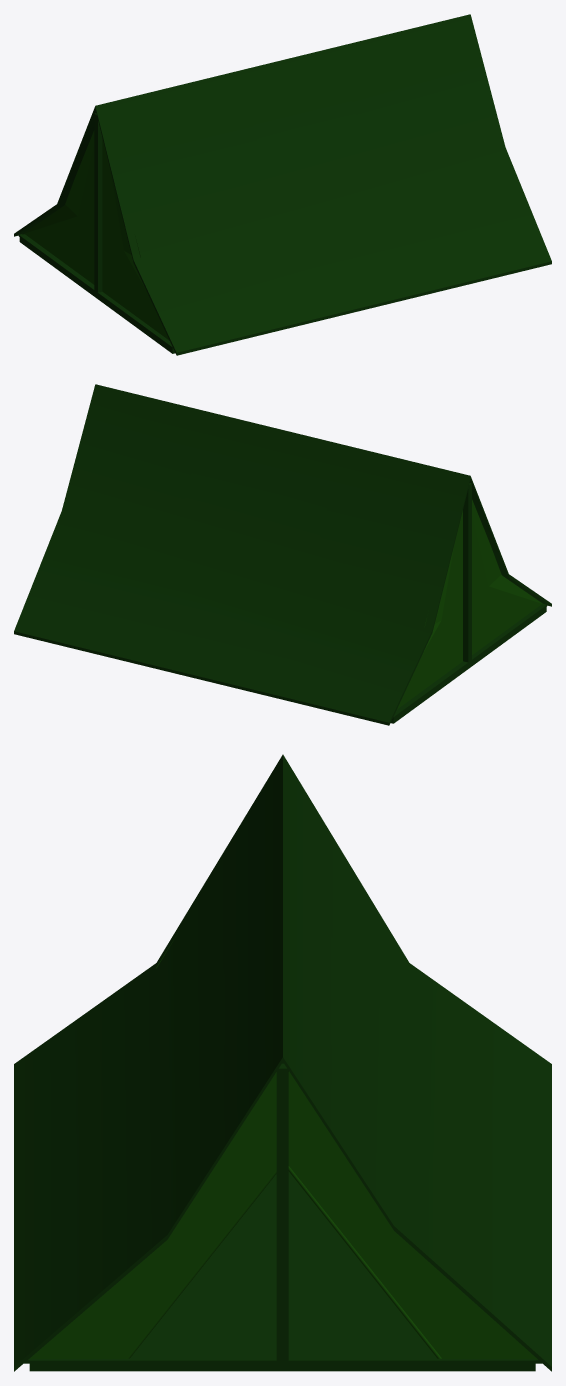
Rendered from tent-groen-open.fbx.
The picture shows the model from 3 angles, top to bottom: view 1: azimuth 30°, elevation 25°; view 2: azimuth 150°, elevation 25°; view 3: azimuth 270°, elevation 25°; orthographic projection. The views are drawn at different scales.
Visible parts, largest first — view 1: pCube1, pasted__polySurface1, polySurface1, pCube2, pCube3, pasted__pCube1; view 2: pasted__pCube1, polySurface1, pasted__polySurface1, pCube2, pCube3, pCube1; view 3: pCube1, pasted__pCube1, pCube4, pasted__pasted__polySurface1, pasted__polySurface1, pasted__pCube2, pasted__pCube3, pasted__pPipe1, pPipe1.
Part boxes in pixels (x1,y1,x2,y2): pCube1: (95,14,551,355); pasted__polySurface1: (22,130,94,284); polySurface1: (102,138,169,340); pCube2: (19,234,174,353); pCube3: (94,113,102,292); pasted__pCube1: (14,15,464,236); pasted__pCube1: (14,384,470,725); polySurface1: (472,499,543,654); pasted__polySurface1: (397,510,462,709); pCube2: (391,604,546,723); pCube3: (463,483,471,662); pCube1: (101,385,551,606); pCube1: (14,754,282,1371); pasted__pCube1: (283,754,551,1371); pCube4: (24,1172,542,1363); pasted__pasted__polySurface1: (288,1071,537,1359); pasted__polySurface1: (30,1072,276,1358); pasted__pCube2: (29,1355,535,1371); pasted__pCube3: (276,1063,288,1363); pasted__pPipe1: (288,1166,441,1358); pPipe1: (126,1169,276,1358).
Bounding box in the file's own units: 11.94 × 5.88 × 8.97.
